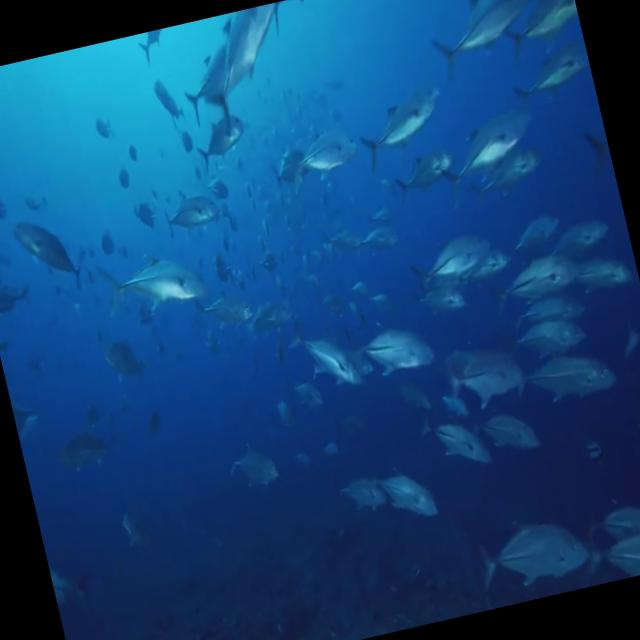fish: (164, 0, 324, 119), (472, 492, 604, 608), (348, 66, 472, 186), (428, 92, 548, 202), (90, 235, 222, 328), (410, 0, 549, 88), (413, 378, 507, 502), (283, 303, 378, 416), (5, 192, 96, 308), (341, 292, 442, 393), (504, 14, 598, 118), (399, 209, 500, 297), (470, 382, 562, 473), (521, 336, 625, 414), (486, 230, 585, 310), (431, 352, 534, 428), (148, 170, 240, 253), (464, 125, 556, 208), (374, 446, 452, 540), (318, 452, 392, 544), (184, 102, 257, 185), (499, 295, 596, 357), (298, 108, 374, 184), (496, 196, 578, 264), (212, 434, 282, 512), (489, 0, 582, 51), (575, 484, 640, 556), (540, 196, 618, 254), (577, 515, 640, 586), (262, 134, 317, 208), (569, 238, 634, 296), (521, 274, 598, 319), (126, 28, 170, 72)
